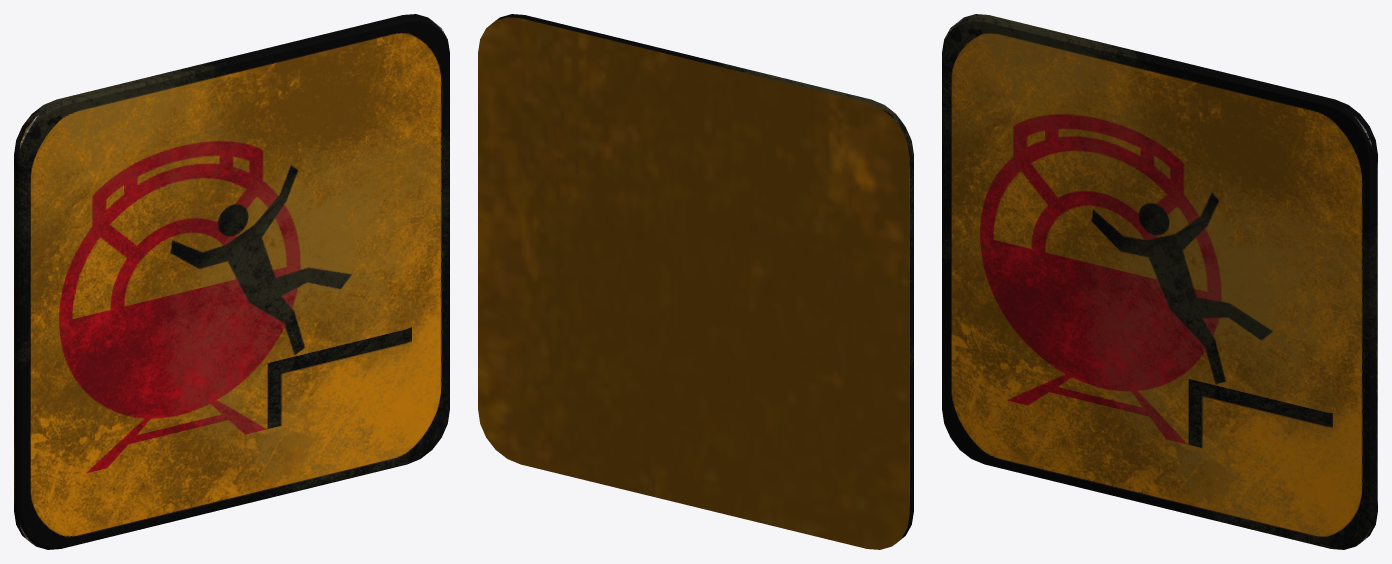
Rendered from sign_trainwarnings_quad.dae.
3 views of the same model, side by side, from view 1: azimuth 30°, elevation 25°; view 2: azimuth 150°, elevation 25°; view 3: azimuth 330°, elevation 25° (orthographic).
Parts seen in each view (by area): view 1: sign_omnitool; view 2: sign_omnitool; view 3: sign_omnitool.
Boxes of the visible parts, bbox=[...] form: sign_omnitool: bbox=[14, 14, 449, 549]; sign_omnitool: bbox=[478, 14, 913, 549]; sign_omnitool: bbox=[942, 14, 1377, 549].
Size of the model in its own units: 0.506 by 0.5 by 0.0116.
